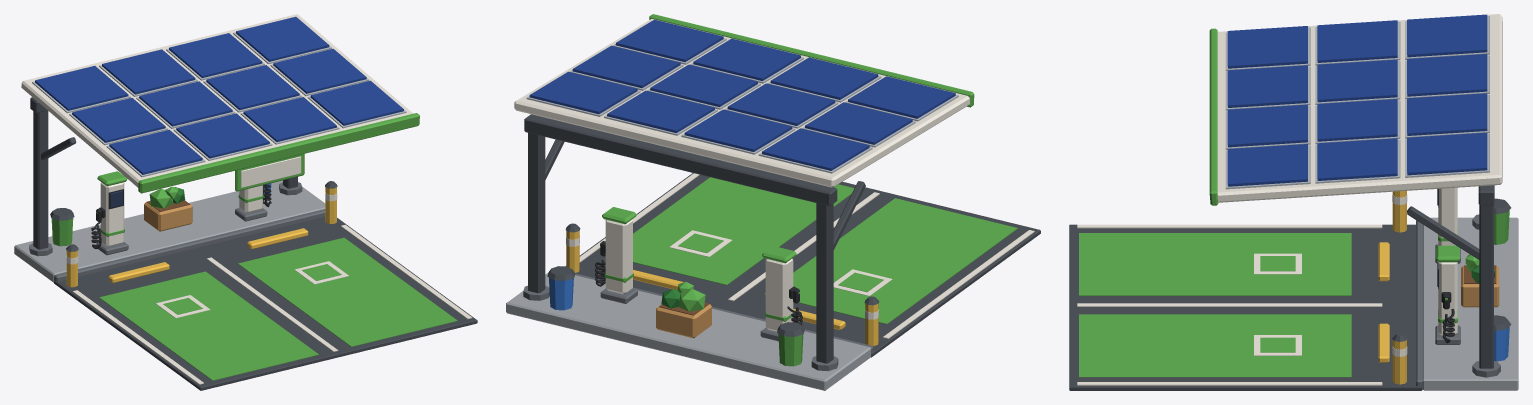
The model's file is ev-charging-station.glb.
The picture shows the model from 3 angles, left to right: view 1: azimuth 30°, elevation 25°; view 2: azimuth 150°, elevation 25°; view 3: azimuth 270°, elevation 25°; orthographic projection. The views are drawn at different scales.
Visible parts, largest first — view 1: Pad_Asphalt, BayPaint_1, BayPaint_0, Sidewalk, Roof, RoofFascia, SolarPanel_3_1, SolarPanel_1_1, SolarPanel_2_0, SolarPanel_2_2, SolarPanel_0_1, SolarPanel_1_2 (+21 smaller); view 2: BayPaint_0, Sidewalk, BayPaint_1, Pad_Asphalt, Roof, RoofBeam, Column_0, Column_1, SolarPanel_1_2, SolarPanel_0_1, SolarPanel_0_2, SolarPanel_3_1 (+25 smaller); view 3: Pad_Asphalt, BayPaint_1, BayPaint_0, Sidewalk, Roof, SolarPanel_1_1, SolarPanel_0_1, SolarPanel_0_2, SolarPanel_2_1, SolarPanel_2_2, SolarPanel_3_1, SolarPanel_3_2 (+35 smaller).
Part boxes in pixels (x1=…): Pad_Asphalt: x1=54, y1=217, x2=477, y2=390; BayPaint_1: x1=238, y1=237, x2=457, y2=346; BayPaint_0: x1=99, y1=271, x2=318, y2=380; Sidewalk: x1=14, y1=180, x2=325, y2=282; Roof: x1=21, y1=14, x2=412, y2=187; RoofFascia: x1=138, y1=113, x2=419, y2=193; SolarPanel_3_1: x1=273, y1=48, x2=366, y2=93; SolarPanel_1_1: x1=139, y1=81, x2=232, y2=126; SolarPanel_2_0: x1=243, y1=97, x2=336, y2=141; SolarPanel_2_2: x1=169, y1=33, x2=262, y2=78; SolarPanel_0_1: x1=72, y1=98, x2=165, y2=142; SolarPanel_1_2: x1=102, y1=49, x2=195, y2=94; BayPaint_0: x1=764, y1=198, x2=1017, y2=324; Sidewalk: x1=506, y1=272, x2=870, y2=390; BayPaint_1: x1=633, y1=177, x2=854, y2=285; Pad_Asphalt: x1=565, y1=173, x2=1040, y2=357; Roof: x1=514, y1=19, x2=969, y2=187; RoofBeam: x1=524, y1=114, x2=837, y2=206; Column_0: x1=816, y1=203, x2=833, y2=363; Column_1: x1=528, y1=132, x2=545, y2=293; SolarPanel_1_2: x1=684, y1=109, x2=792, y2=151; SolarPanel_0_1: x1=805, y1=102, x2=912, y2=144; SolarPanel_0_2: x1=762, y1=128, x2=869, y2=170; SolarPanel_3_1: x1=572, y1=45, x2=680, y2=88; Pad_Asphalt: x1=1069, y1=224, x2=1422, y2=390; BayPaint_1: x1=1079, y1=314, x2=1351, y2=377; BayPaint_0: x1=1079, y1=233, x2=1351, y2=295; Sidewalk: x1=1422, y1=217, x2=1518, y2=390; Roof: x1=1217, y1=14, x2=1502, y2=202; SolarPanel_1_1: x1=1317, y1=59, x2=1397, y2=102; SolarPanel_0_1: x1=1317, y1=20, x2=1397, y2=62; SolarPanel_0_2: x1=1407, y1=14, x2=1487, y2=57; SolarPanel_2_1: x1=1317, y1=99, x2=1397, y2=141; SolarPanel_2_2: x1=1407, y1=93, x2=1487, y2=135; SolarPanel_3_1: x1=1317, y1=138, x2=1397, y2=180; SolarPanel_3_2: x1=1407, y1=132, x2=1487, y2=175.
Bounding box in the file's own units: 24.2 × 15.04 × 28.
